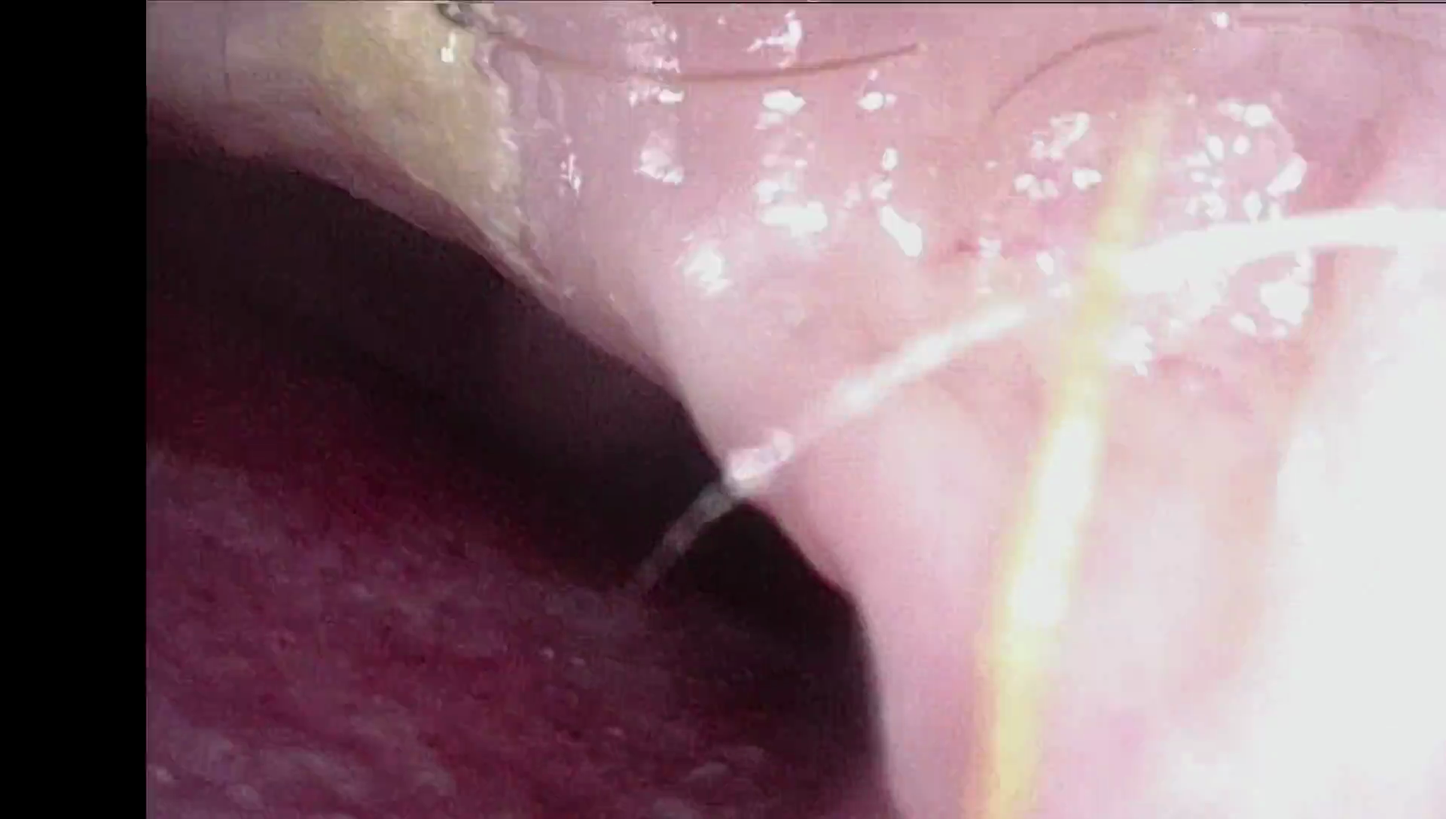close_wall: (998, 150, 1446, 819)
next: (614, 418, 909, 766)
